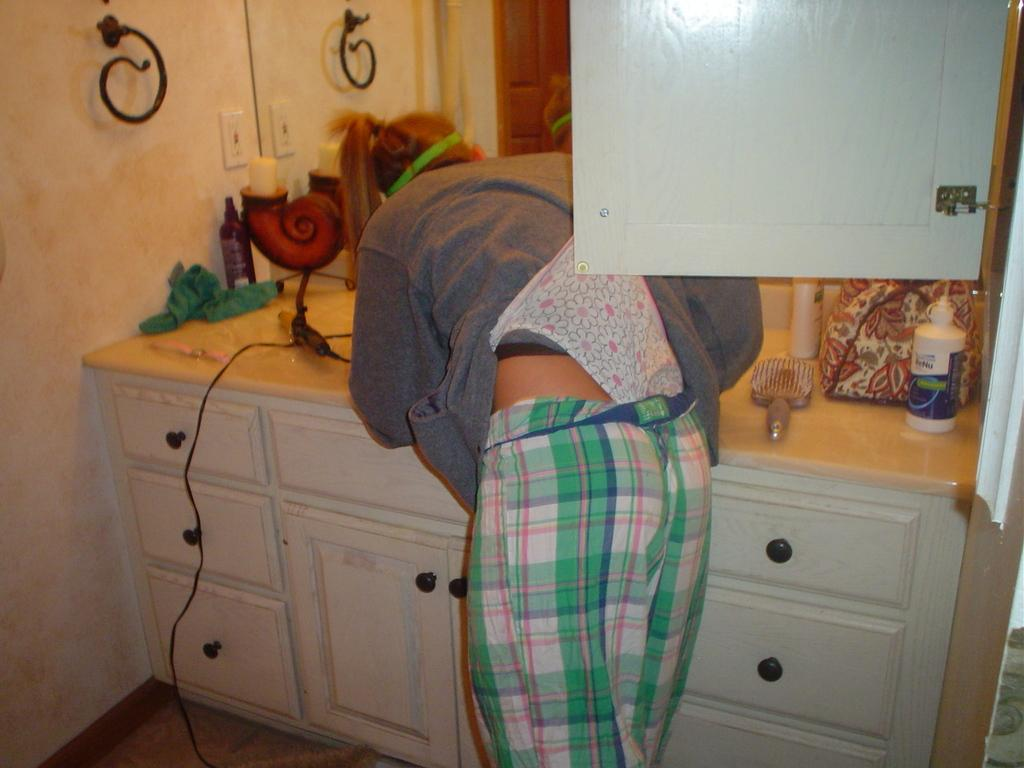cabinet_door: (574, 11, 980, 273), (292, 516, 441, 744), (700, 598, 902, 708), (714, 502, 908, 596), (150, 582, 284, 694), (136, 478, 274, 575), (118, 391, 260, 464), (690, 721, 868, 768)
handle: (756, 650, 783, 686), (766, 536, 792, 566), (412, 570, 438, 596), (200, 638, 222, 662), (159, 432, 188, 450), (448, 575, 466, 602), (179, 527, 199, 548)
